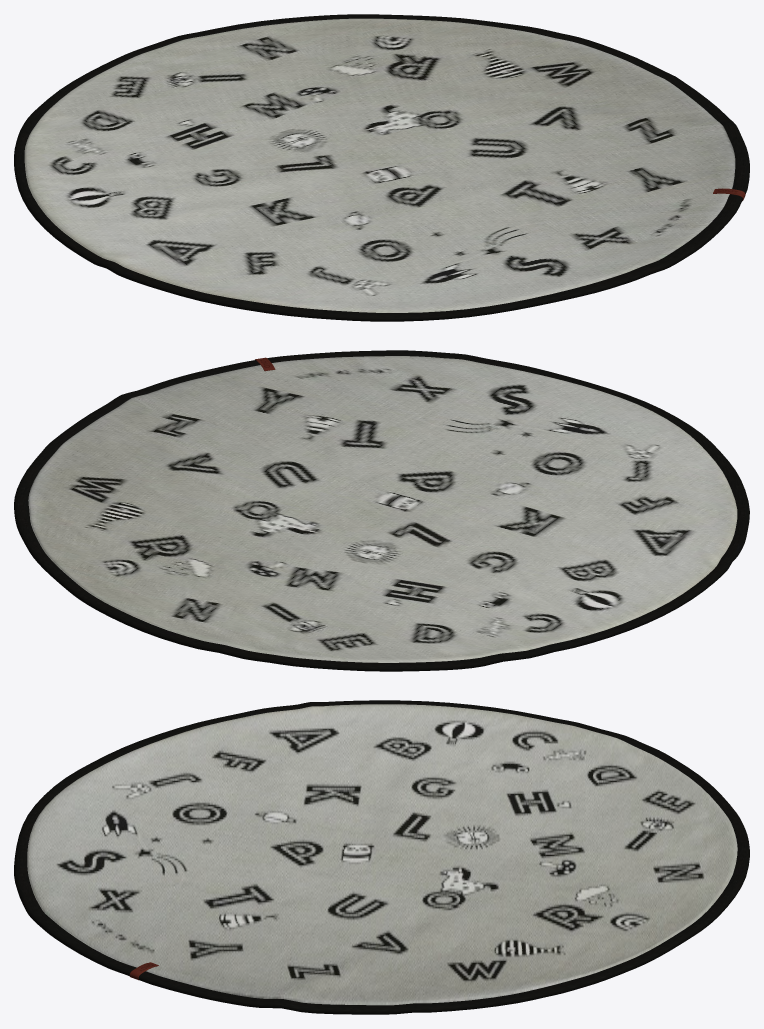
File: The_Alphabet_Rug.glb
The picture shows the model from 3 angles, top to bottom: view 1: azimuth 30°, elevation 25°; view 2: azimuth 150°, elevation 25°; view 3: azimuth 270°, elevation 25°; orthographic projection.
Visible parts, largest first — view 1: BP_The_Alphabet_Rug; view 2: BP_The_Alphabet_Rug; view 3: BP_The_Alphabet_Rug.
Part boxes in pixels (left/top/right/bottom): BP_The_Alphabet_Rug: left=14, top=14, right=749, bottom=321; BP_The_Alphabet_Rug: left=14, top=350, right=749, bottom=671; BP_The_Alphabet_Rug: left=14, top=700, right=749, bottom=1014.
Bounding box in the file's own units: 1.2 × 0.0163 × 1.2.
1 material, 1 textured.
